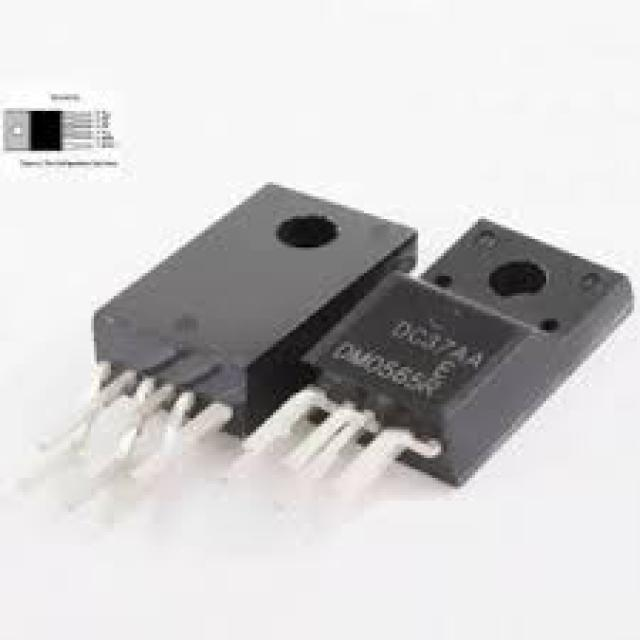Transistor: (310, 222, 626, 491), (71, 170, 415, 416)
